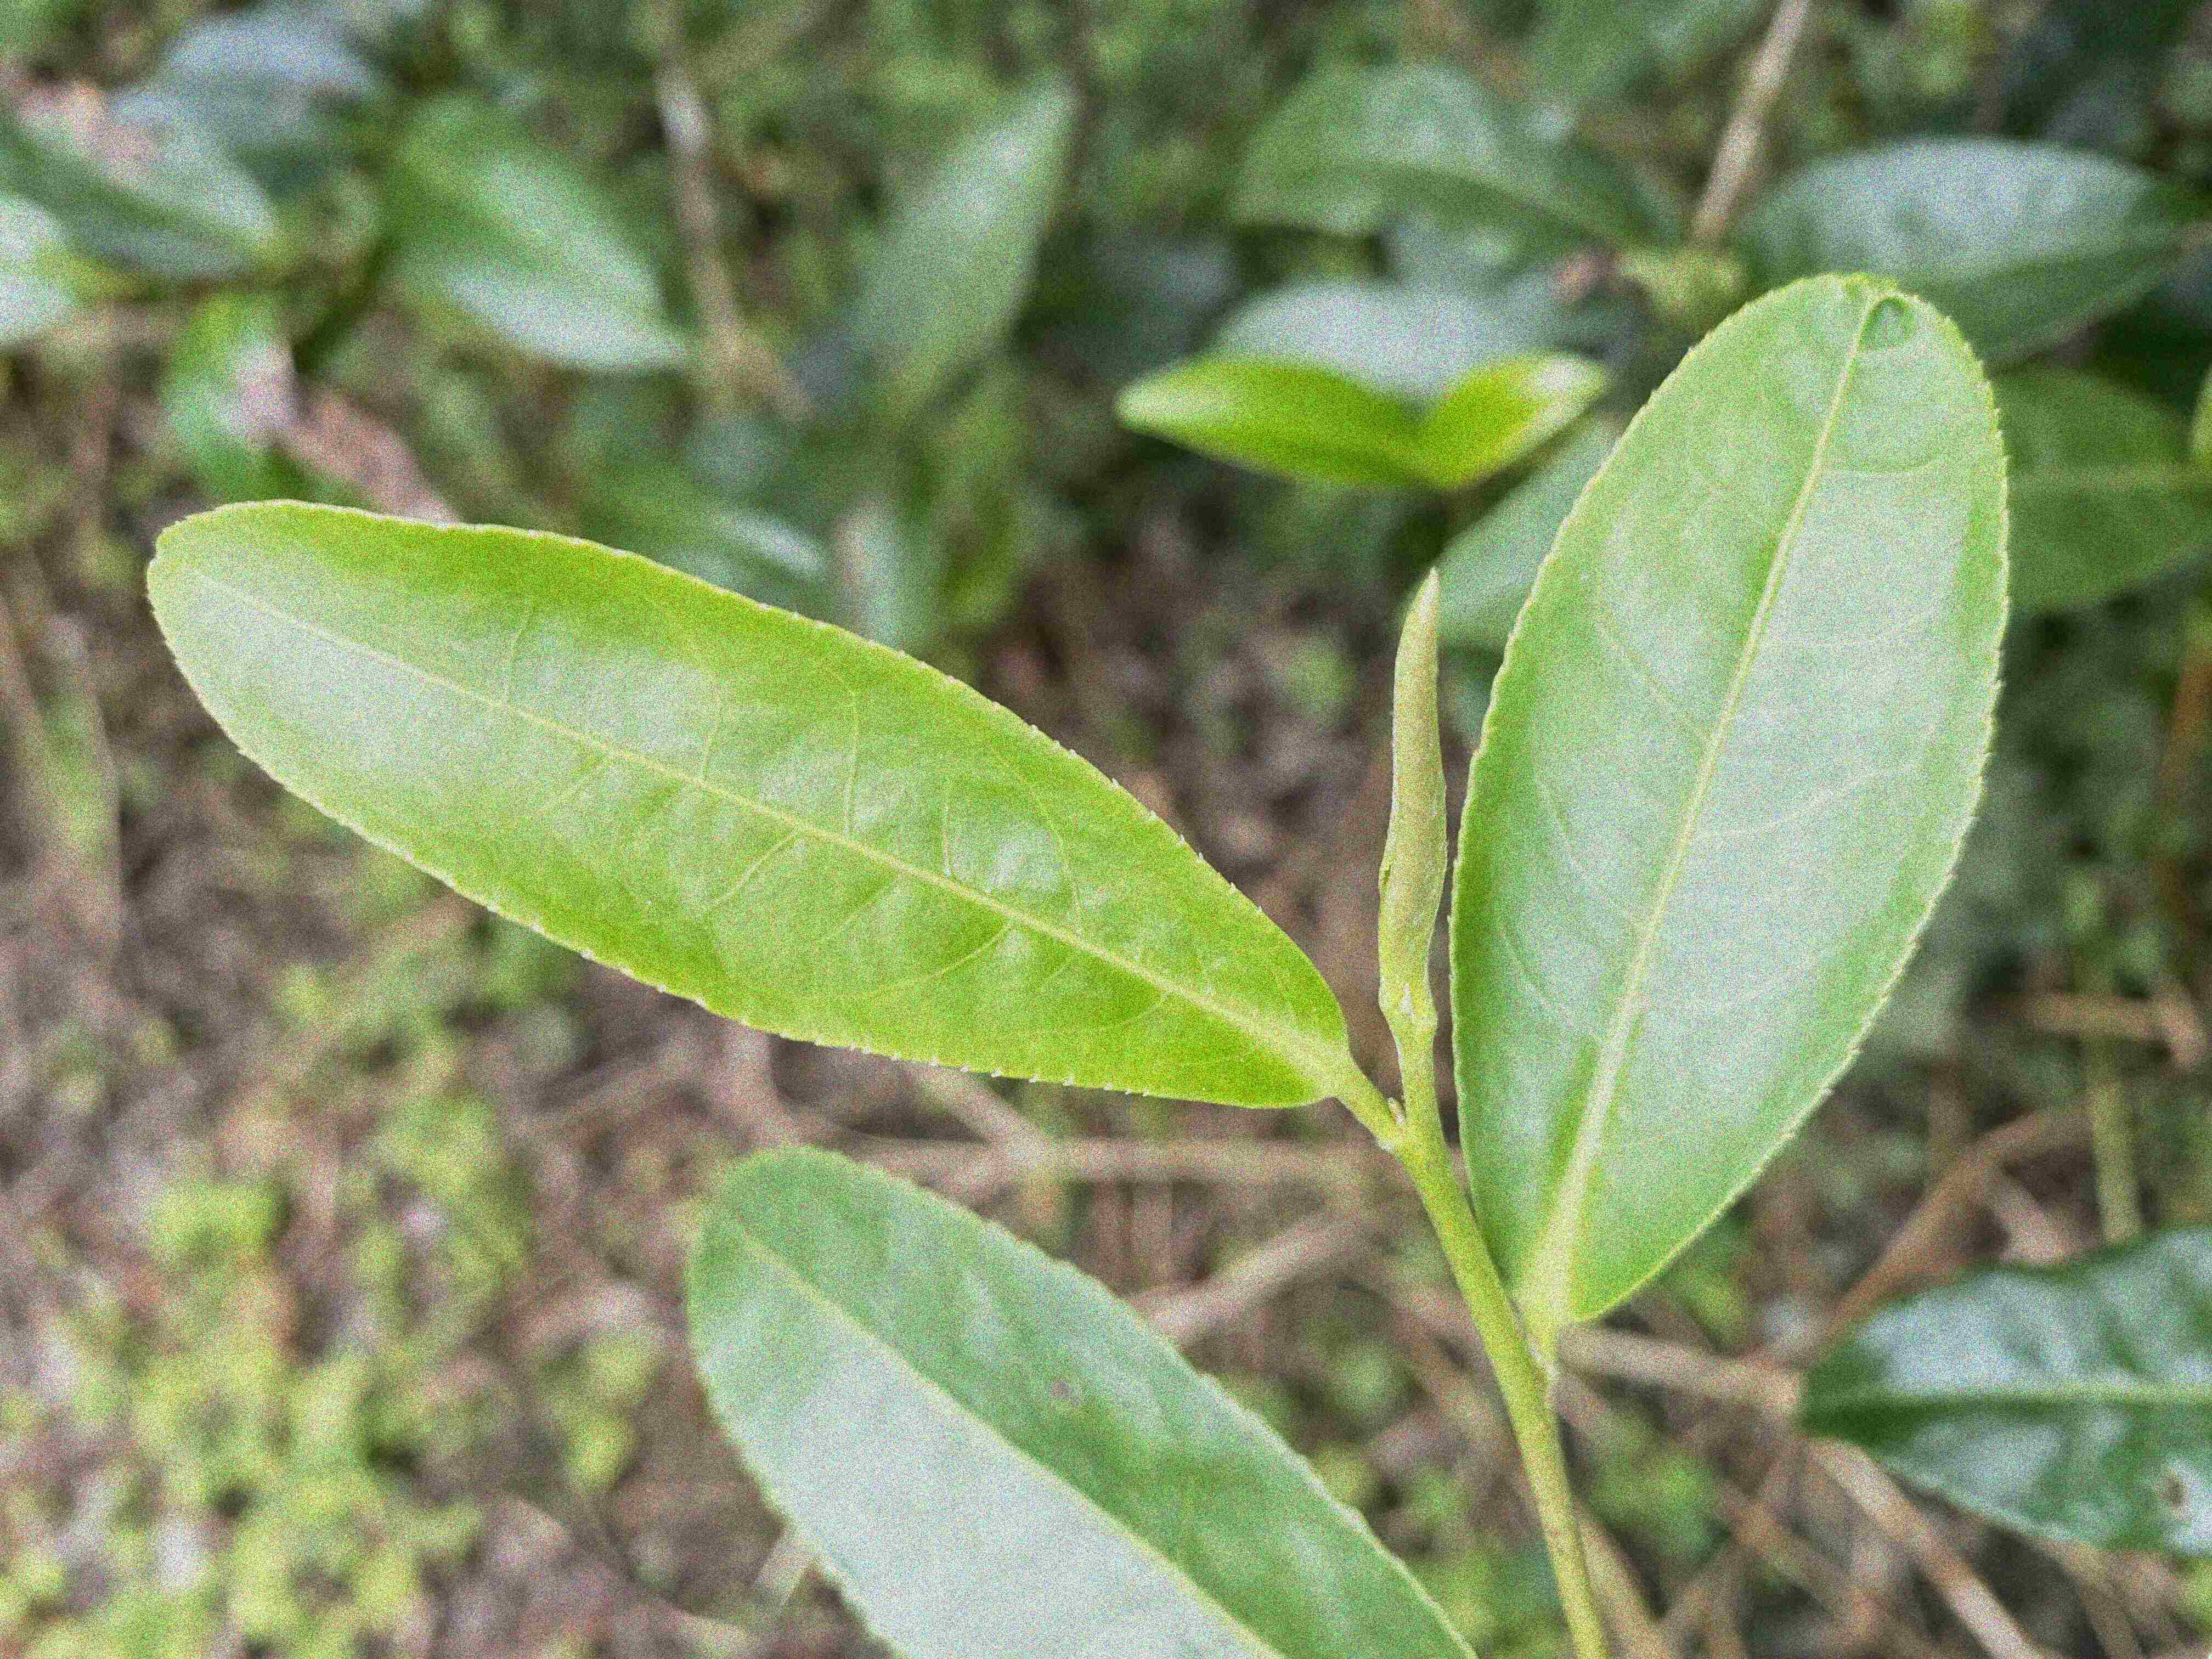healthy: (141, 500, 1350, 1108), (1449, 268, 2013, 1330)
tanju_low: (690, 1141, 1480, 1657)
